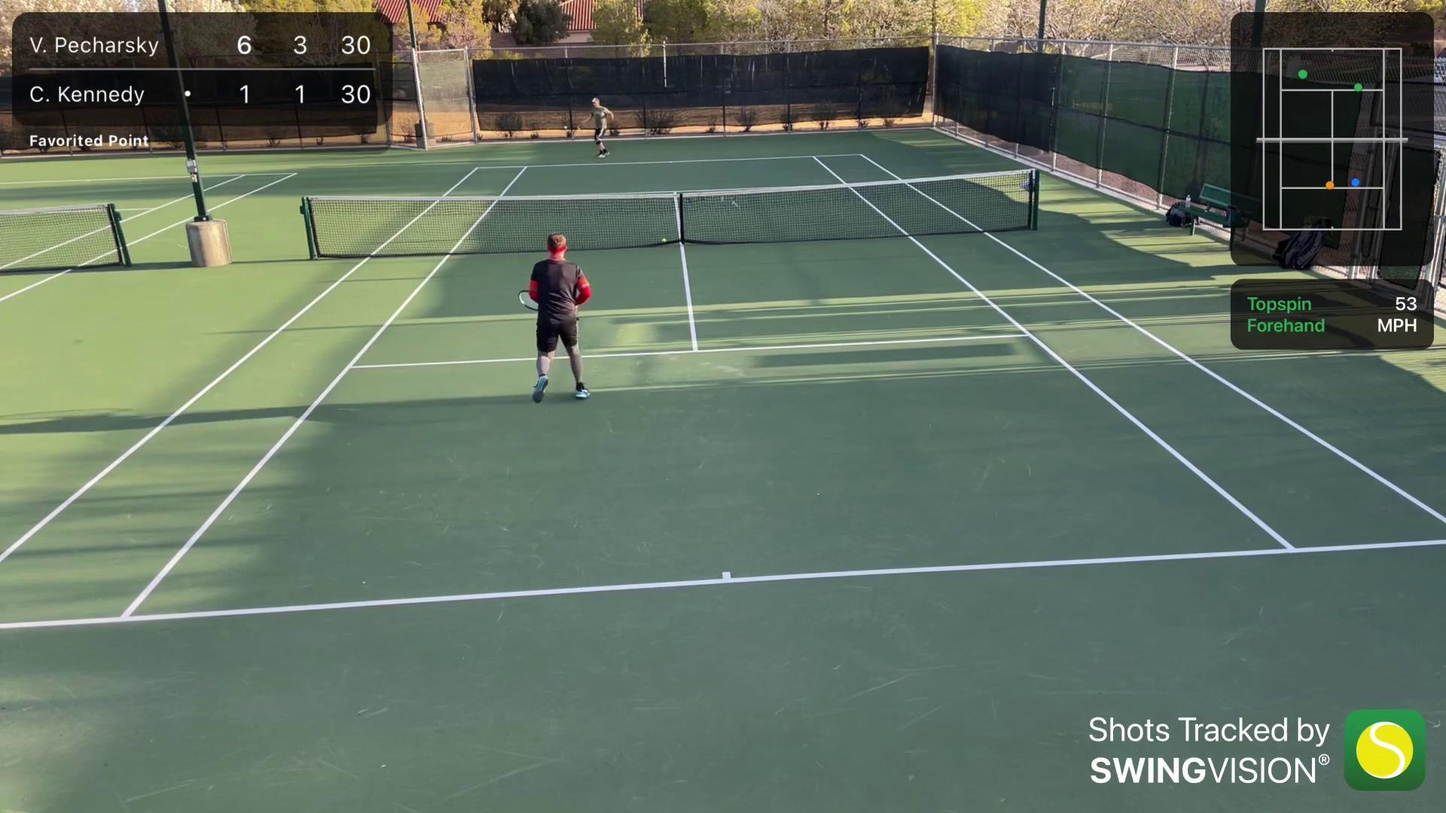ball: (658, 238, 668, 244), (264, 338, 271, 343), (562, 124, 569, 129)
